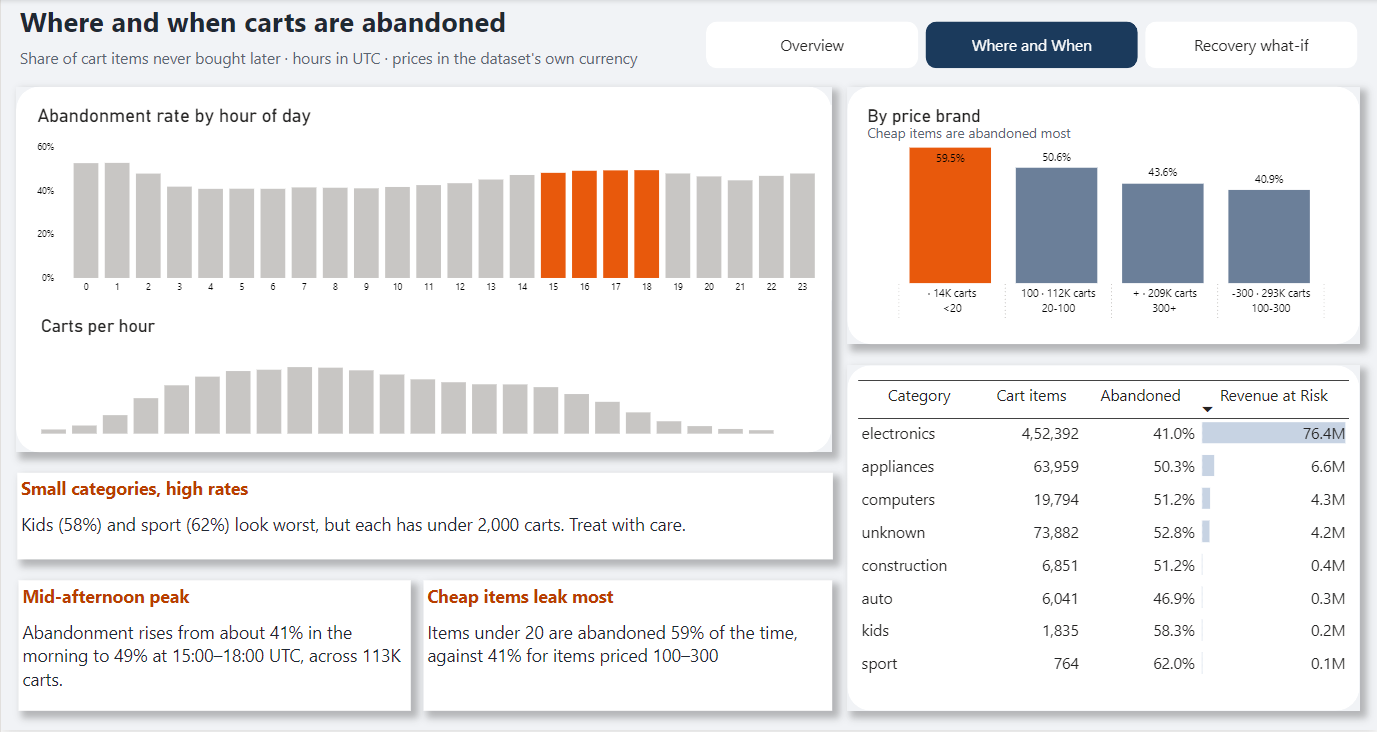

Layout of this report page (visuals, bound fields, positions):
{"tool":"powerbi","page":{"name":"Where and When","canvas":[1880,1000],"ordinal":1},"visuals":[{"type":"pageNavigator","box":[964,30,892,64],"z":0},{"type":"textbox","box":[20,0,972,62],"z":1000},{"type":"textbox","box":[20,62,1078,58],"z":2000},{"type":"shape","box":[20,120,1114,500],"z":3000},{"type":"shape","box":[1156,120,700,352],"z":4000},{"type":"shape","box":[1156,500,700,472],"z":5000},{"type":"clusteredColumnChart","title":"Abandonment rate by hour of day","fields":{"Category":["Hour.hour"],"Y":["Hour.Hour Abandon Rate %"]},"box":[44,146,1090,266],"z":6000},{"type":"clusteredColumnChart","title":"Carts per hour","fields":{"Category":["Hour.hour"],"Y":["Hour.Hour Carts"]},"box":[50,432,1054,168],"z":7000},{"type":"clusteredColumnChart","title":"By price brand","fields":{"Y":["Hour.Band Abandon Rate %"],"Category":["PriceBand.price_band","PriceBand.Band Label"]},"box":[1178,146,678,302],"z":8000},{"type":"textbox","box":[1178,166,414,40],"z":8001},{"type":"tableEx","fields":{"Values":["Category.category","Hour.Category Carts","Hour.Category Abandon Rate %","Category.Revenue at Risk (M)"]},"box":[1164,516,684,438],"z":8002},{"type":"textbox","box":[22,648,1114,118],"z":8003},{"type":"textbox","box":[24,794,536,178],"z":8004},{"type":"textbox","box":[578,794,558,178],"z":8005}]}

Visuals, with their boxes in screenshot pixels (x1, y1, x2, y2), scaled from the page's 1880x1000 canvas onto the 1377x732 screenshot:
pageNavigator: pyautogui.locateOnScreen(706, 22, 1359, 69)
textbox: pyautogui.locateOnScreen(15, 0, 727, 45)
textbox: pyautogui.locateOnScreen(15, 45, 804, 88)
shape: pyautogui.locateOnScreen(15, 88, 831, 454)
shape: pyautogui.locateOnScreen(847, 88, 1359, 346)
shape: pyautogui.locateOnScreen(847, 366, 1359, 712)
"Abandonment rate by hour of day" clusteredColumnChart: pyautogui.locateOnScreen(32, 107, 831, 302)
"Carts per hour" clusteredColumnChart: pyautogui.locateOnScreen(37, 316, 809, 439)
"By price brand" clusteredColumnChart: pyautogui.locateOnScreen(863, 107, 1359, 328)
textbox: pyautogui.locateOnScreen(863, 122, 1166, 151)
tableEx - Category.category x Hour.Category Carts: pyautogui.locateOnScreen(853, 378, 1354, 698)
textbox: pyautogui.locateOnScreen(16, 474, 832, 561)
textbox: pyautogui.locateOnScreen(18, 581, 410, 712)
textbox: pyautogui.locateOnScreen(423, 581, 832, 712)
